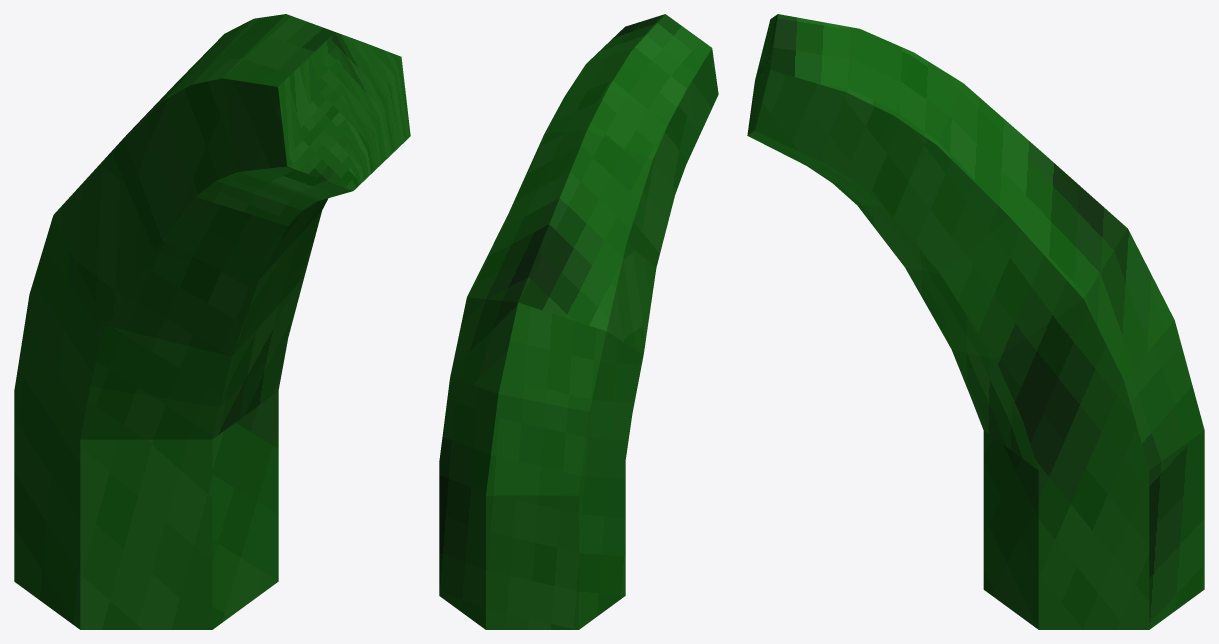
Rendered from thorn3.obj.
The picture shows the model from 3 angles, left to right: view 1: azimuth 30°, elevation 25°; view 2: azimuth 150°, elevation 25°; view 3: azimuth 270°, elevation 25°; orthographic projection. The views are drawn at different scales.
Parts seen in each view (by area): view 1: thorn_Cylinder; view 2: thorn_Cylinder; view 3: thorn_Cylinder.
Part boxes in pixels (<box>): thorn_Cylinder: <box>14,14,410,629</box>; thorn_Cylinder: <box>439,14,718,629</box>; thorn_Cylinder: <box>747,14,1204,629</box>.
Size of the model in its own units: 0.9207 by 3.05 by 2.2.
